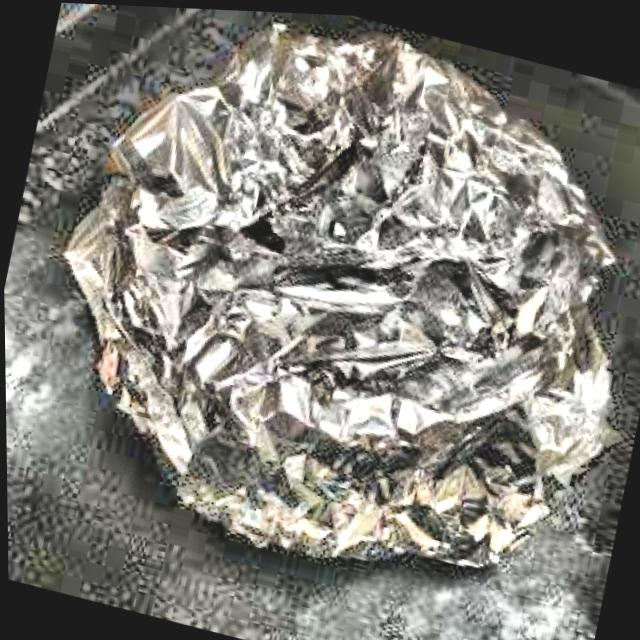Foil: (13, 0, 640, 640)
